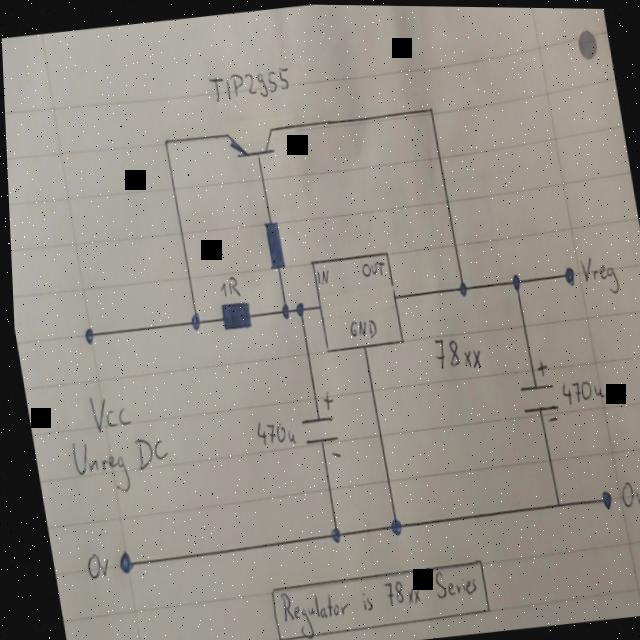capacitor: (290, 386, 338, 462), (508, 353, 557, 425)
junction: (183, 308, 198, 331), (381, 513, 397, 534), (504, 269, 519, 291), (322, 521, 336, 542), (451, 276, 466, 295), (288, 297, 302, 316), (274, 300, 287, 318), (546, 494, 558, 508), (158, 132, 168, 146), (424, 100, 432, 113)
resistor: (257, 215, 283, 270), (214, 295, 250, 332)
terminal: (110, 547, 128, 573), (555, 261, 573, 285), (592, 484, 608, 507), (77, 323, 93, 344)
text: (269, 561, 477, 640), (62, 428, 171, 498), (203, 57, 292, 104), (425, 328, 479, 373), (80, 387, 129, 434), (574, 248, 617, 296), (553, 372, 601, 405), (247, 414, 290, 449), (78, 549, 106, 580), (613, 475, 640, 507), (342, 313, 373, 338), (211, 272, 237, 297), (356, 255, 382, 276), (311, 265, 327, 283)
transistor: (218, 111, 280, 164)
